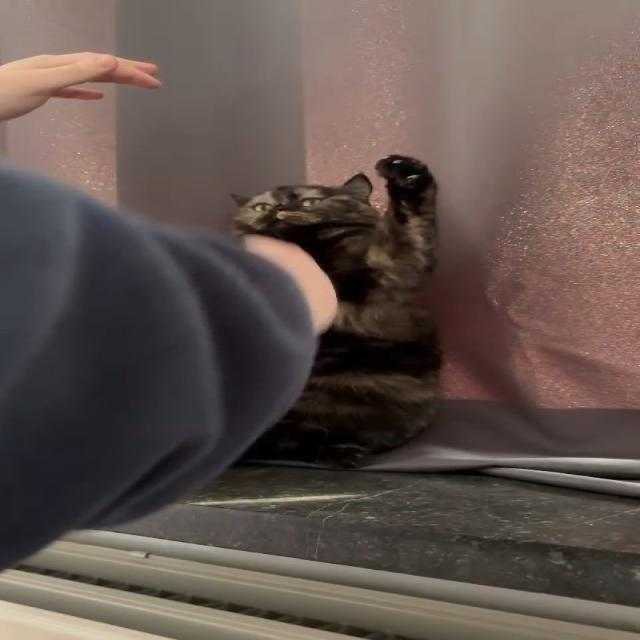authorized: (229, 154, 444, 468)
